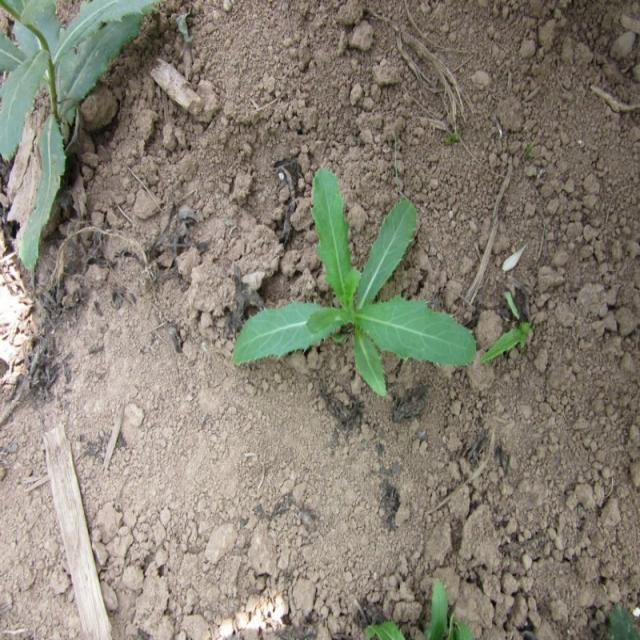cs: (231, 162, 483, 402)
